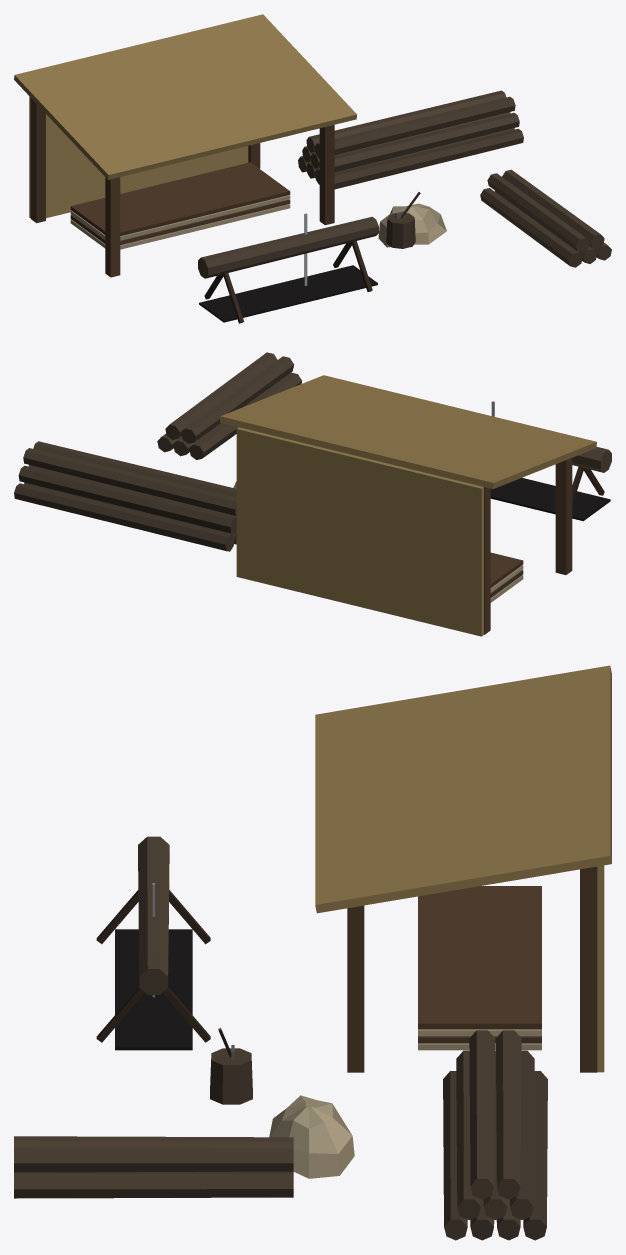
File: walk_tidebound_lumber.glb
3 renders of one model, top to bottom at view 1: azimuth 30°, elevation 25°; view 2: azimuth 150°, elevation 25°; view 3: azimuth 270°, elevation 25°, orthographic. The views are drawn at different scales.
Parts seen in each view (by area): view 1: walk_tidebound_lumber, walk_tidebound_lumber_roof; view 2: walk_tidebound_lumber, walk_tidebound_lumber_roof; view 3: walk_tidebound_lumber, walk_tidebound_lumber_roof.
Part boxes in pixels (bbox=[...]): walk_tidebound_lumber: bbox=[29, 90, 611, 323]; walk_tidebound_lumber_roof: bbox=[14, 14, 356, 179]; walk_tidebound_lumber: bbox=[14, 352, 611, 636]; walk_tidebound_lumber_roof: bbox=[219, 375, 596, 488]; walk_tidebound_lumber: bbox=[14, 836, 604, 1240]; walk_tidebound_lumber_roof: bbox=[315, 665, 611, 913].
Size of what is drawn, in the model's own units: 10.65 by 3.69 by 7.7.
Materials: 2 (2 with a texture image).
